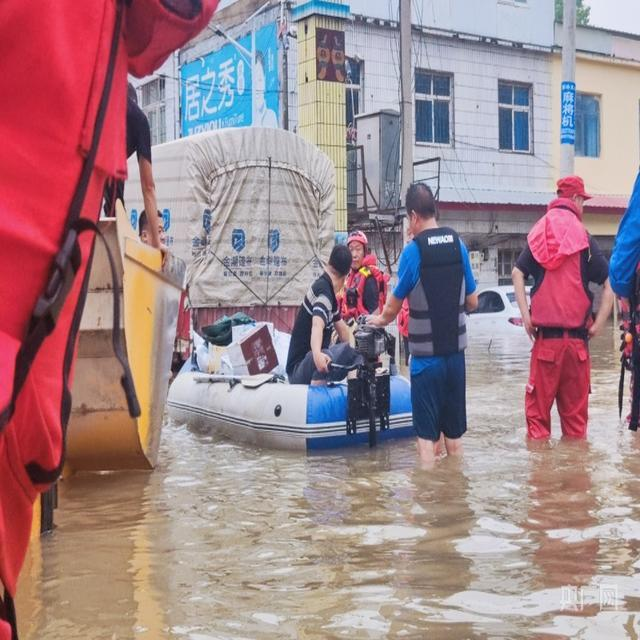Person-RiskLevel2: (368, 177, 482, 464), (504, 171, 616, 453)
Person-RiskLevel3: (289, 240, 360, 385), (335, 233, 387, 359)
